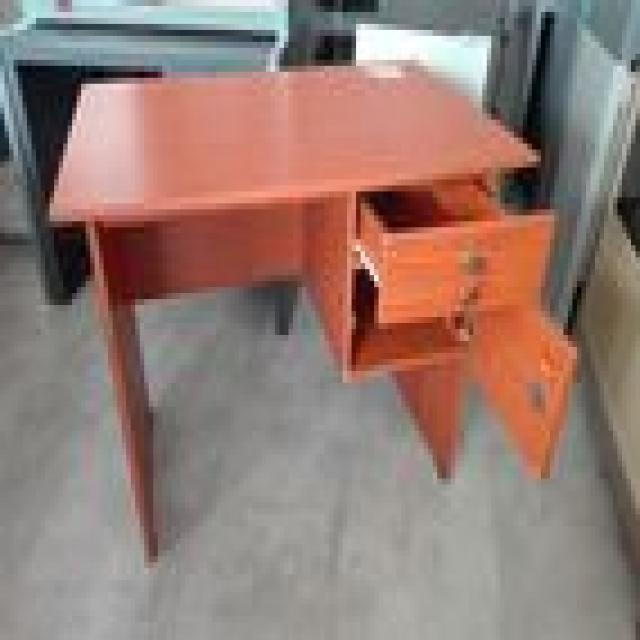others: (36, 42, 590, 556)
